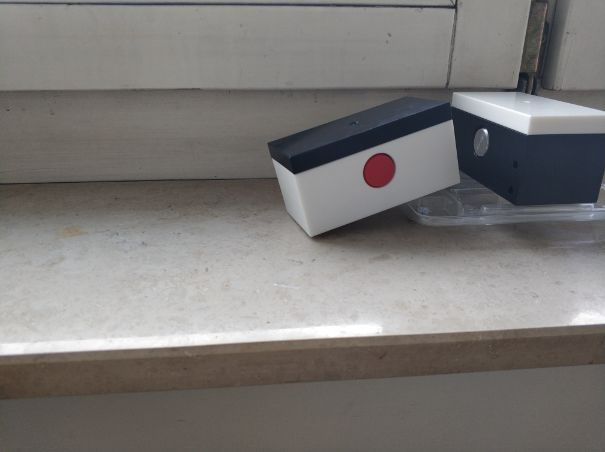black+white+red: (265, 92, 464, 240)
white+black+silver: (449, 88, 605, 210)
